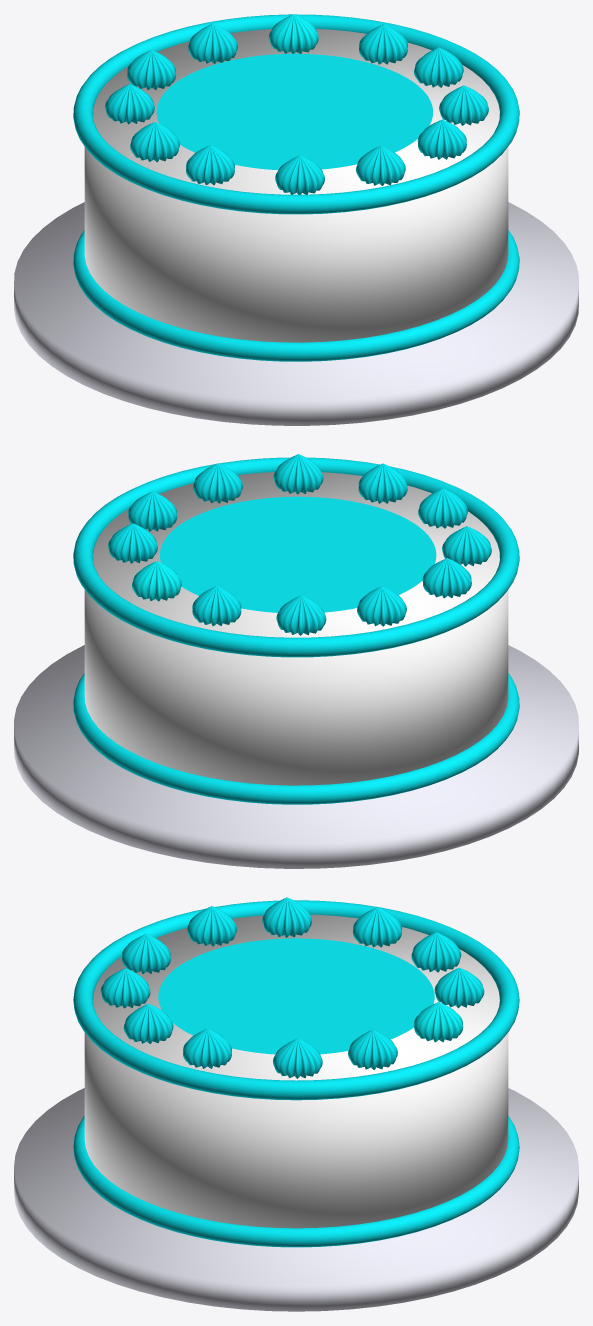
Rendered from round_vanilla_style3.glb.
3 views of the same model, one above another, from view 1: azimuth 30°, elevation 25°; view 2: azimuth 150°, elevation 25°; view 3: azimuth 270°, elevation 25° (orthographic).
Parts seen in each view (by area): view 1: CakeBase, IcingStand, CakeTopColor, IcingRing, IcingRing.001, CakecolorCircle, design10, design6, design2, design7, design4, design1 (+6 smaller); view 2: CakeBase, IcingStand, CakeTopColor, IcingRing, IcingRing.001, CakecolorCircle, design2, design5, design3, design9, design10, design1 (+6 smaller); view 3: CakeBase, IcingStand, CakeTopColor, IcingRing, IcingRing.001, CakecolorCircle, design2, design11, design10, design7, design6, design8 (+6 smaller).
Boxes of the visible parts, x1,y1,x2,y2 form: CakeBase: (84, 29, 508, 342); IcingStand: (14, 202, 578, 425); CakeTopColor: (169, 57, 423, 164); IcingRing: (73, 14, 519, 214); IcingRing.001: (73, 230, 519, 361); CakecolorCircle: (156, 53, 432, 170); design10: (105, 84, 154, 124); design6: (127, 50, 176, 89); design2: (356, 145, 405, 185); design7: (186, 145, 234, 185); design4: (414, 47, 463, 87); design1: (188, 23, 237, 63); CakeBase: (84, 472, 508, 785); IcingStand: (14, 645, 578, 868); CakeTopColor: (169, 500, 423, 607); IcingRing: (73, 457, 519, 657); IcingRing.001: (73, 673, 519, 804); CakecolorCircle: (160, 496, 436, 612); design2: (358, 463, 407, 503); design5: (273, 454, 323, 494); design3: (422, 558, 471, 598); design9: (193, 463, 242, 503); design10: (357, 586, 406, 626); design1: (192, 586, 241, 625); CakeBase: (84, 914, 508, 1228); IcingStand: (14, 1088, 578, 1311); CakeTopColor: (169, 943, 423, 1049); IcingRing: (73, 900, 519, 1100); IcingRing.001: (73, 1116, 519, 1247); CakecolorCircle: (158, 938, 434, 1054); design2: (100, 968, 150, 1008); design11: (414, 1002, 463, 1042); design10: (353, 907, 401, 947); design7: (187, 906, 236, 946); design6: (411, 932, 461, 972); design8: (348, 1030, 397, 1069).
Size of the model in its own units: 4 by 1.75 by 4.
